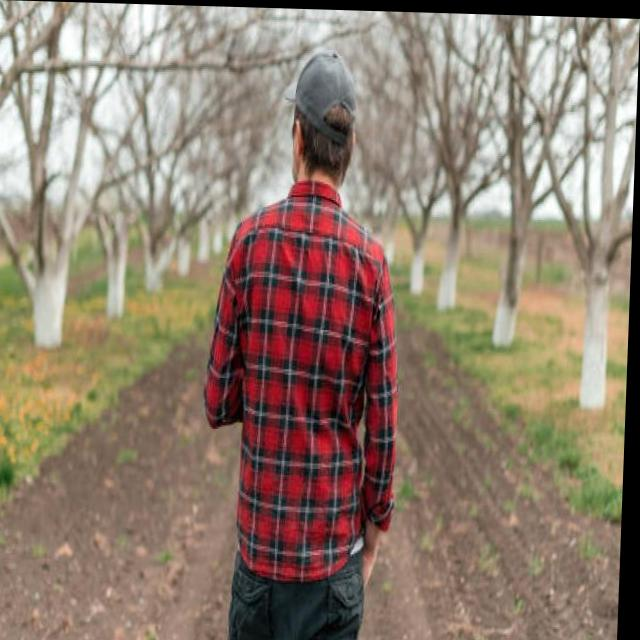no helmet: (274, 31, 362, 191)
